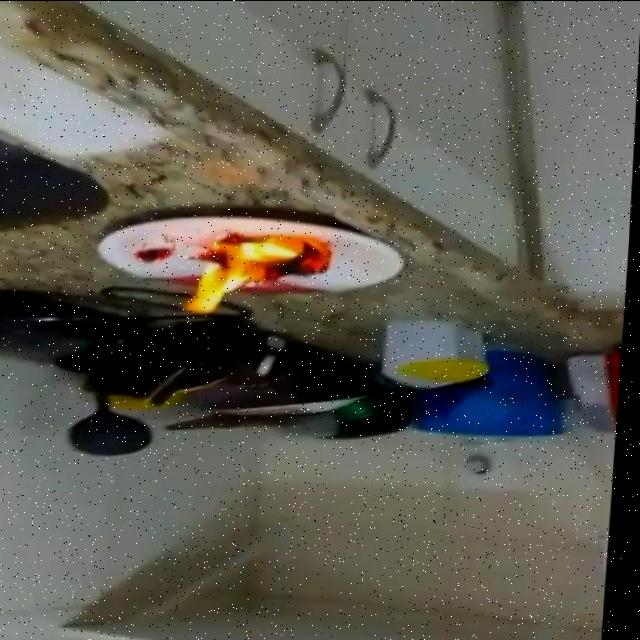fire: (182, 228, 342, 322)
